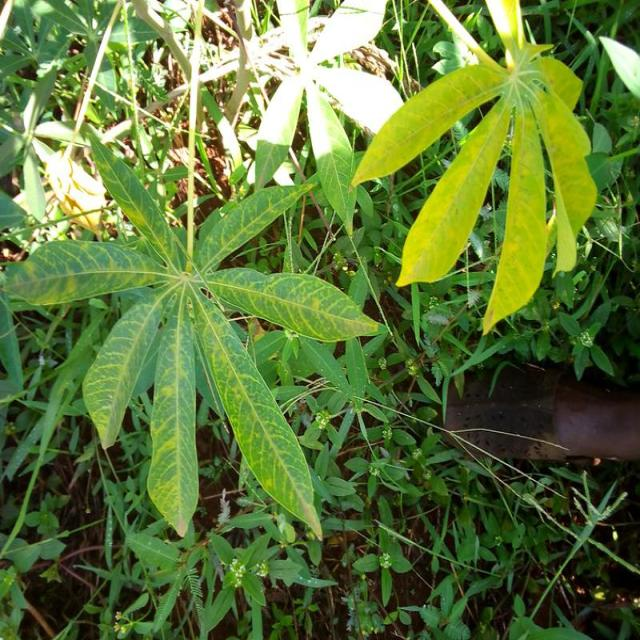cassava leaf: (2, 127, 384, 541), (351, 2, 598, 335)
